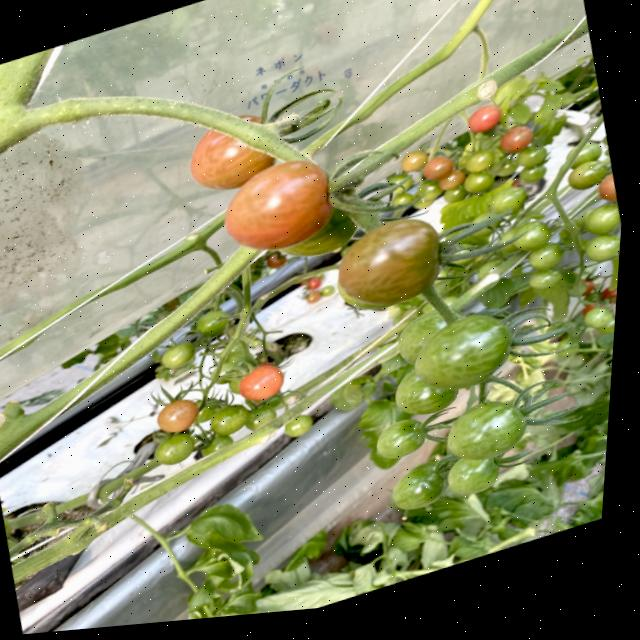ripe0: (409, 303, 516, 401), (442, 391, 530, 472), (388, 460, 451, 516), (446, 449, 503, 501), (374, 413, 429, 463), (153, 429, 197, 469), (208, 399, 252, 439), (583, 228, 621, 266), (514, 217, 552, 255), (160, 338, 198, 372), (283, 412, 315, 441)
ripe1: (330, 209, 450, 319), (155, 395, 200, 438), (420, 152, 456, 184), (595, 172, 617, 207)
ripe2: (220, 150, 336, 262), (183, 106, 279, 193), (236, 361, 286, 406), (466, 101, 503, 137)
